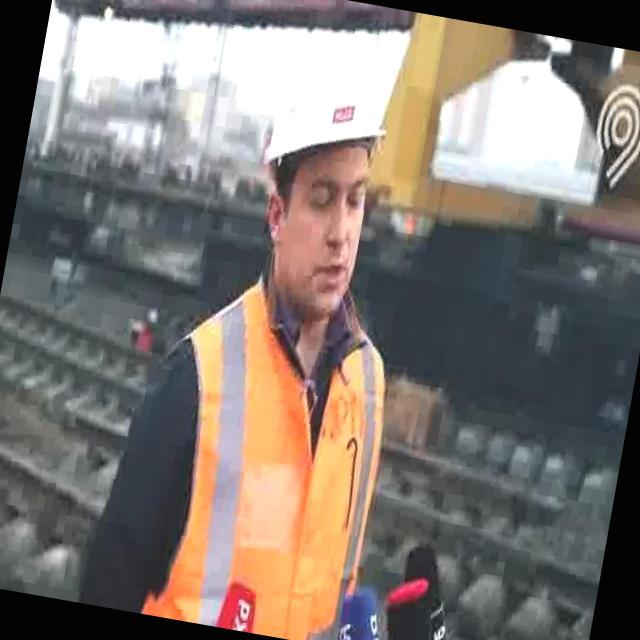vest: (118, 255, 409, 640)
